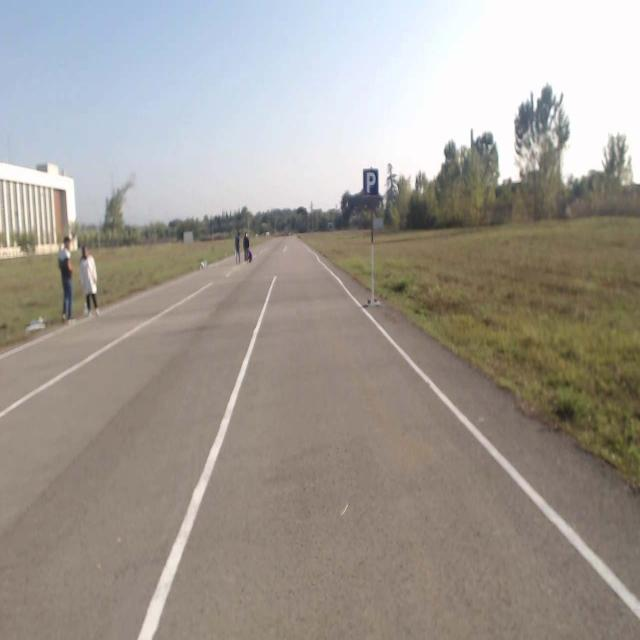park: (362, 169, 379, 195)
